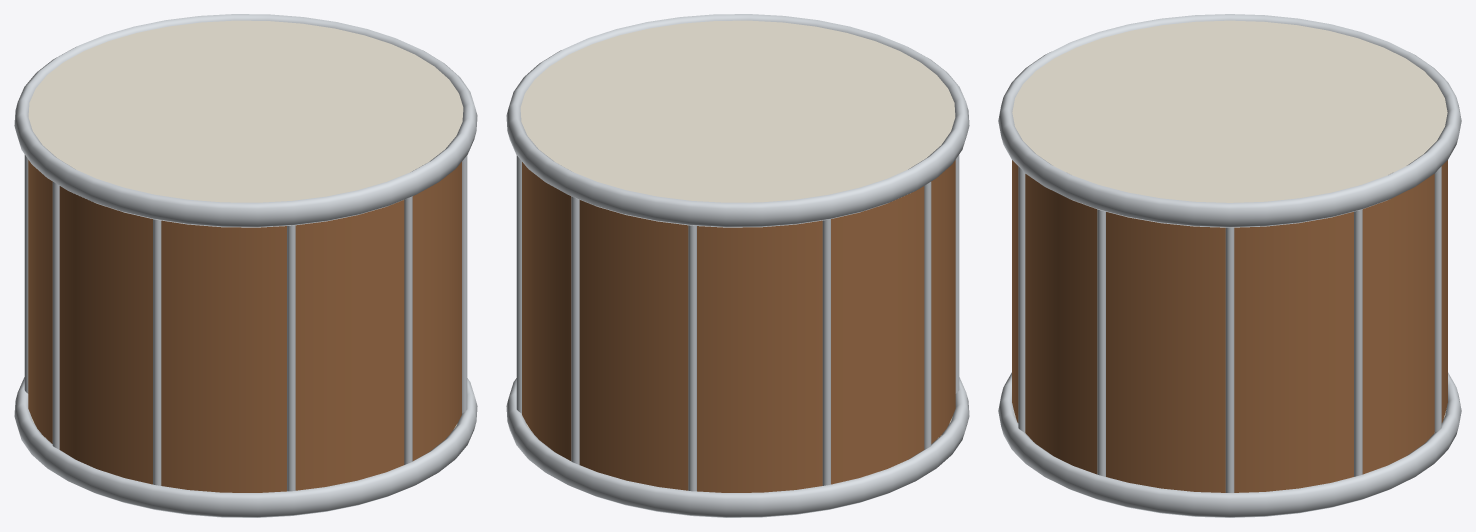
The model's file is wp-tambour.glb.
3 renders of one model, left to right at view 1: azimuth 30°, elevation 25°; view 2: azimuth 150°, elevation 25°; view 3: azimuth 270°, elevation 25°, orthographic.
Visible parts, largest first — view 1: wp-tambour; view 2: wp-tambour; view 3: wp-tambour.
Boxes of the visible parts, x1,y1,x2,y2 form: wp-tambour: (14, 14, 477, 517); wp-tambour: (506, 14, 969, 517); wp-tambour: (998, 14, 1461, 517).
Size of the model in its own units: 0.4 by 0.3 by 0.4.
